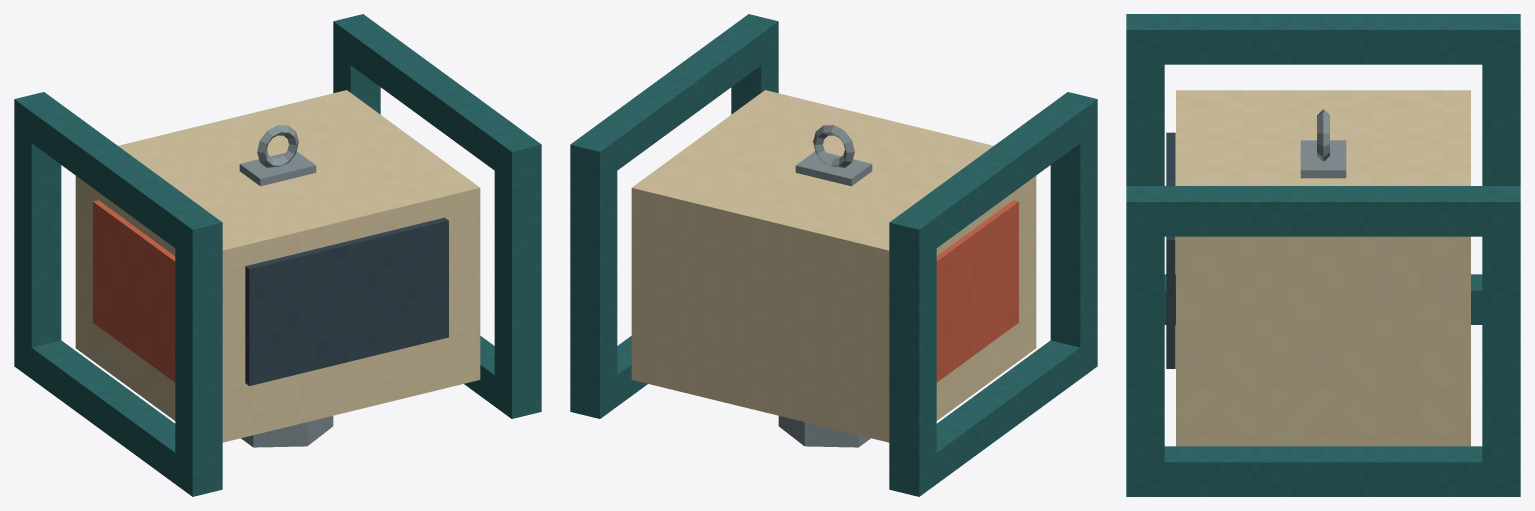
File: generator-lod-2.glb
3 views of the same model, side by side, from view 1: azimuth 30°, elevation 25°; view 2: azimuth 150°, elevation 25°; view 3: azimuth 270°, elevation 25° (orthographic). The views are drawn at different scales.
Visible parts, largest first — view 1: generator_lod_2; view 2: generator_lod_2; view 3: generator_lod_2.
Part boxes in pixels (<box>): generator_lod_2: <box>14,14,541,496</box>; generator_lod_2: <box>570,14,1097,496</box>; generator_lod_2: <box>1126,14,1520,496</box>.
Bounding box in the file's own units: 1.75 × 1.46 × 1.55.
Materials: 1 (1 with a texture image).
